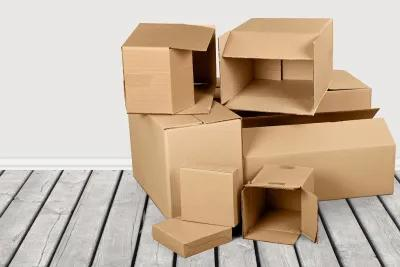cardboard: (122, 23, 242, 225), (220, 18, 370, 114), (242, 119, 394, 199), (122, 23, 215, 113), (241, 186, 317, 243)
